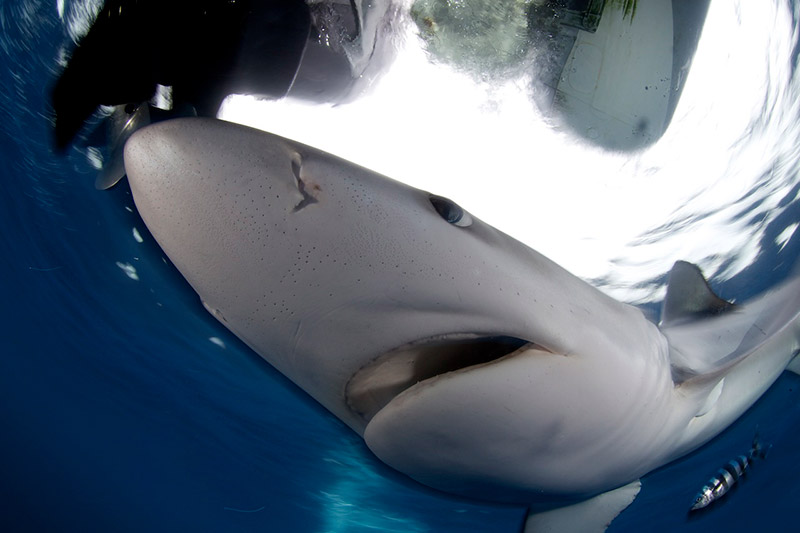shark: (120, 109, 800, 533)
